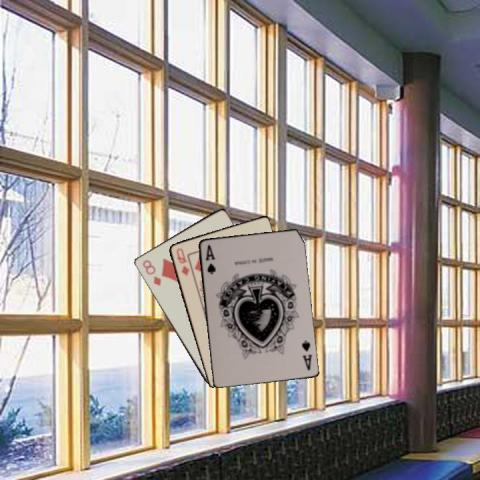8d: (139, 257, 162, 287)
As: (202, 241, 217, 276), (299, 338, 312, 372)
Qd: (172, 244, 190, 276)
